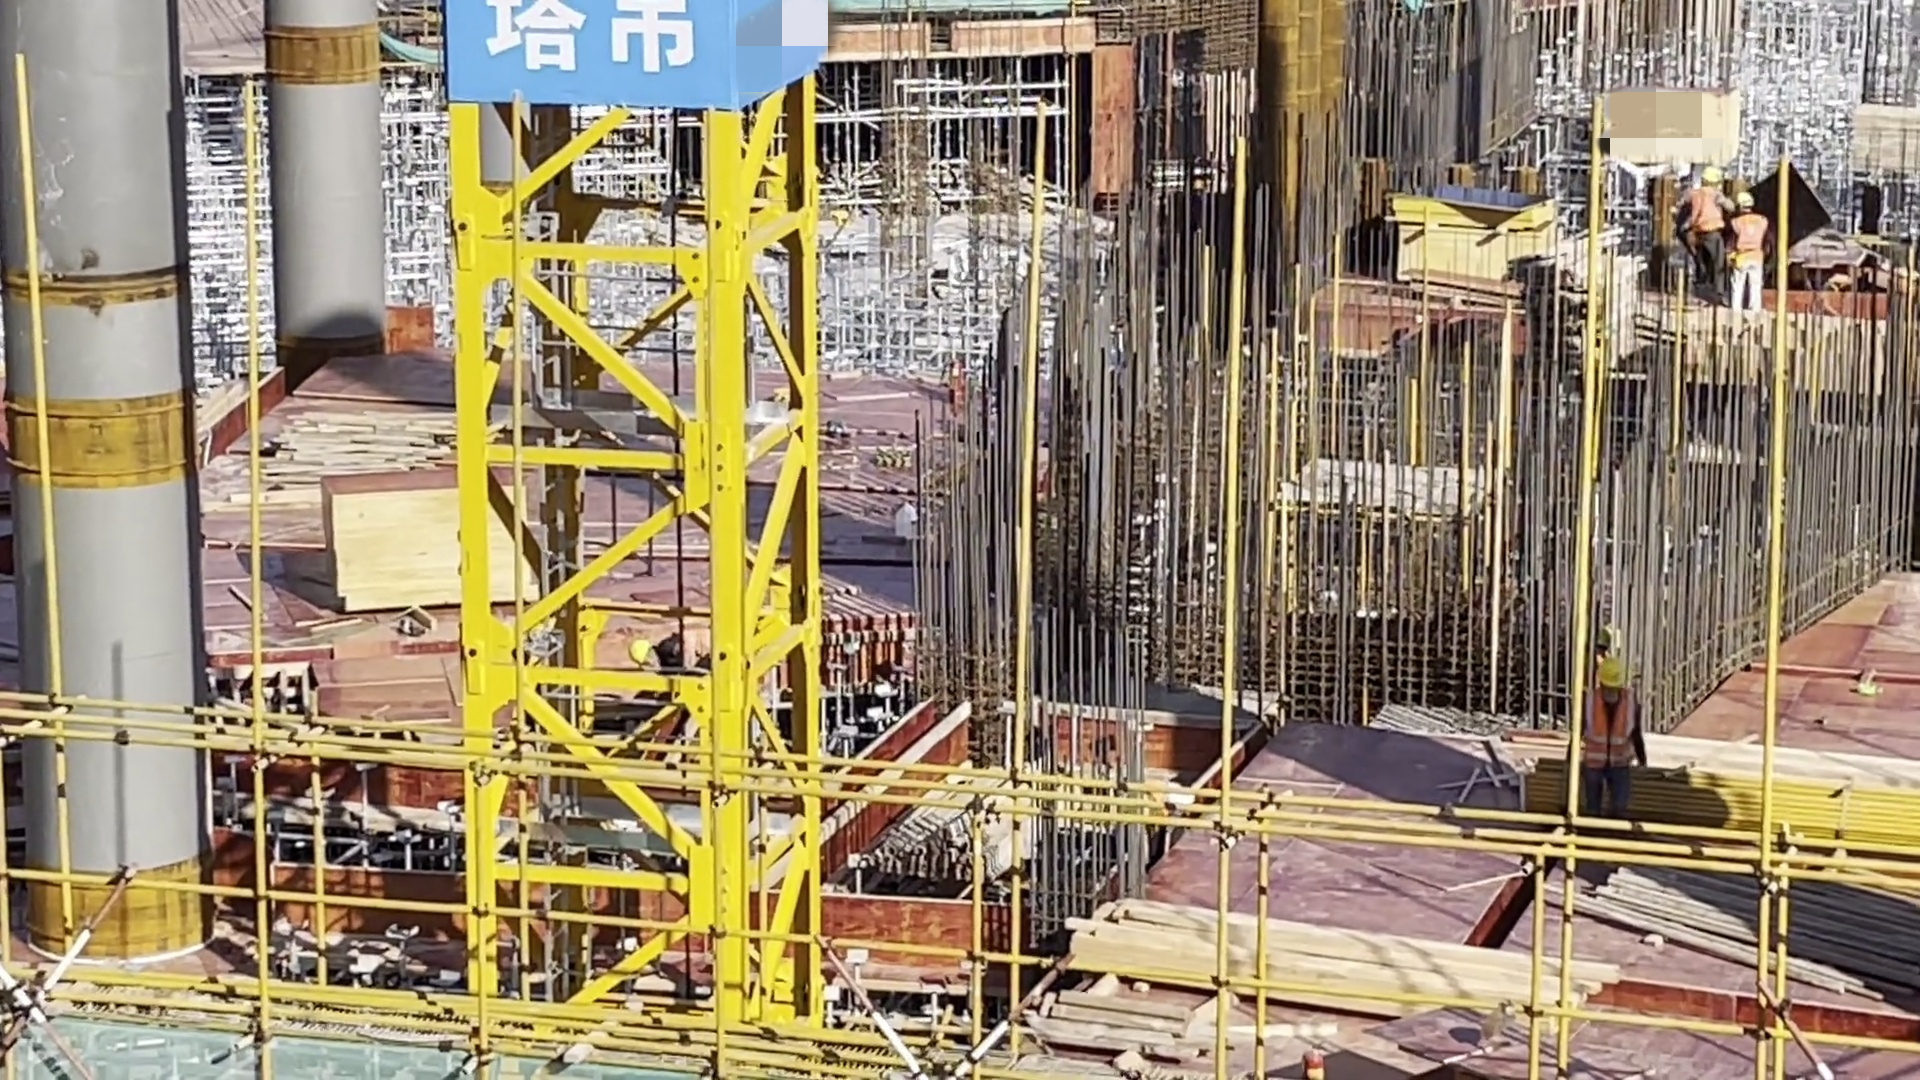board: (341, 459, 554, 604), (1851, 106, 1920, 168)
helmet: (633, 634, 648, 672), (1597, 622, 1622, 643), (1705, 167, 1724, 188), (1738, 193, 1754, 210)
person: (639, 617, 736, 711), (1584, 656, 1636, 808), (1729, 191, 1776, 345), (1693, 160, 1726, 277), (1594, 624, 1635, 665)
vest: (664, 621, 728, 674), (1588, 697, 1639, 757), (1694, 191, 1726, 234), (1738, 222, 1761, 266)
wood: (1073, 874, 1633, 1041), (1529, 251, 1636, 356)
